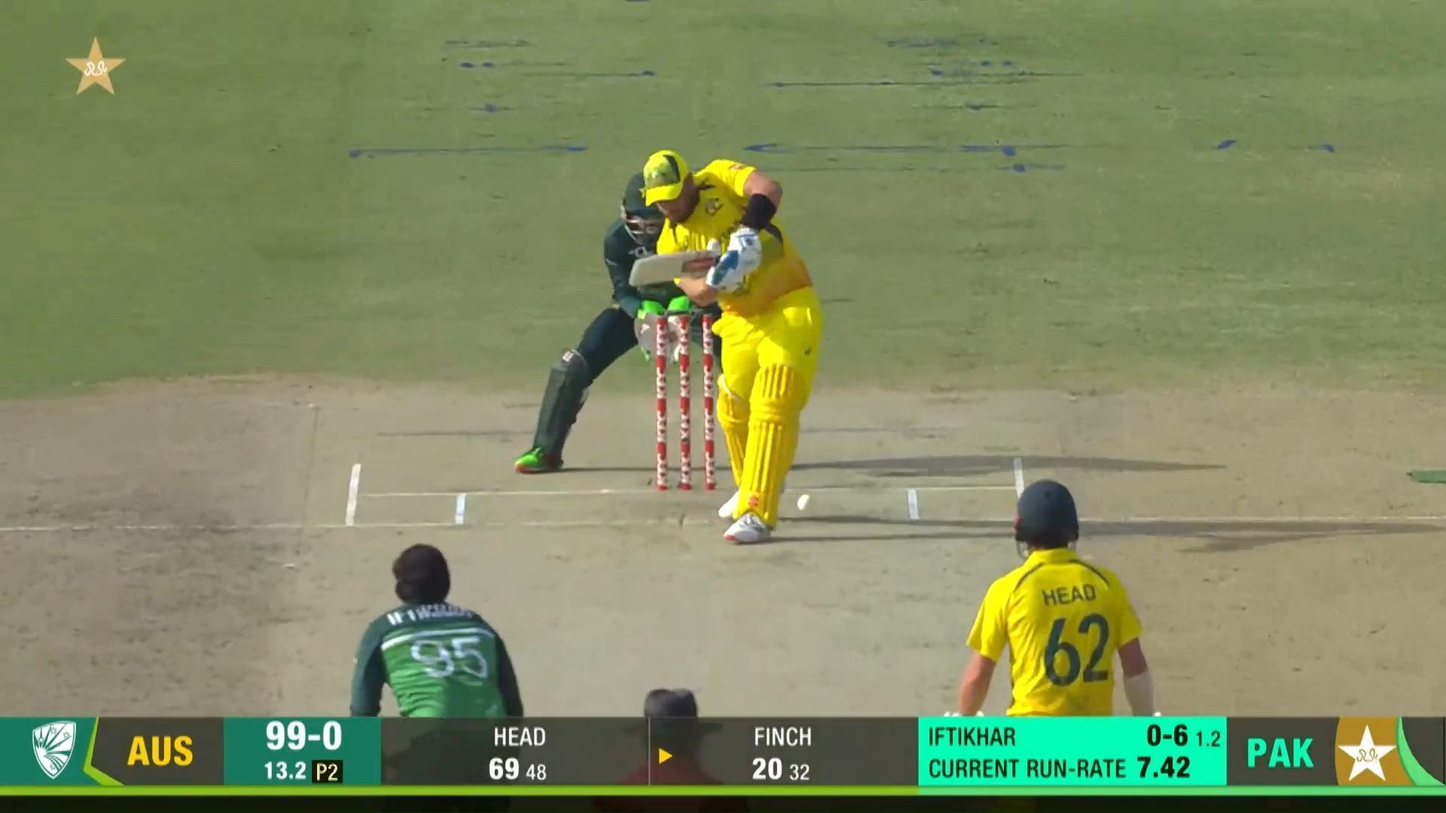BM 1: (628, 147, 826, 547)
BO: (350, 540, 527, 722)
